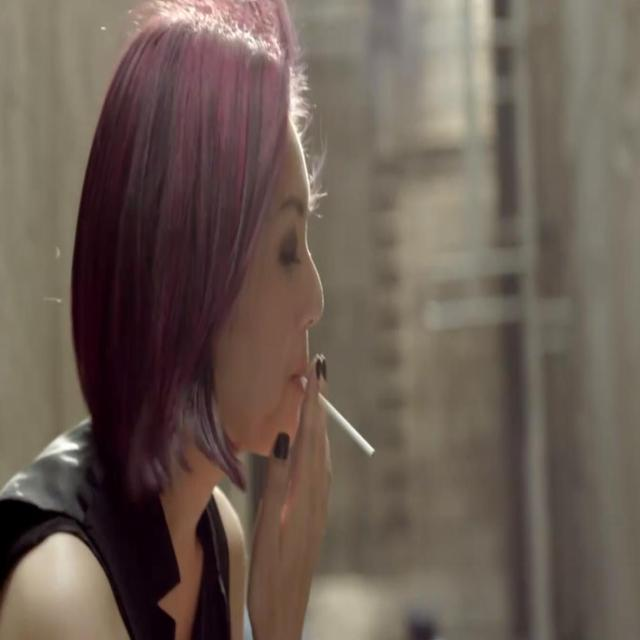cigarette: (328, 391, 381, 474)
